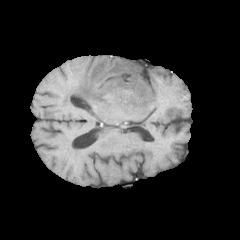glioma: (58, 59, 178, 112)
